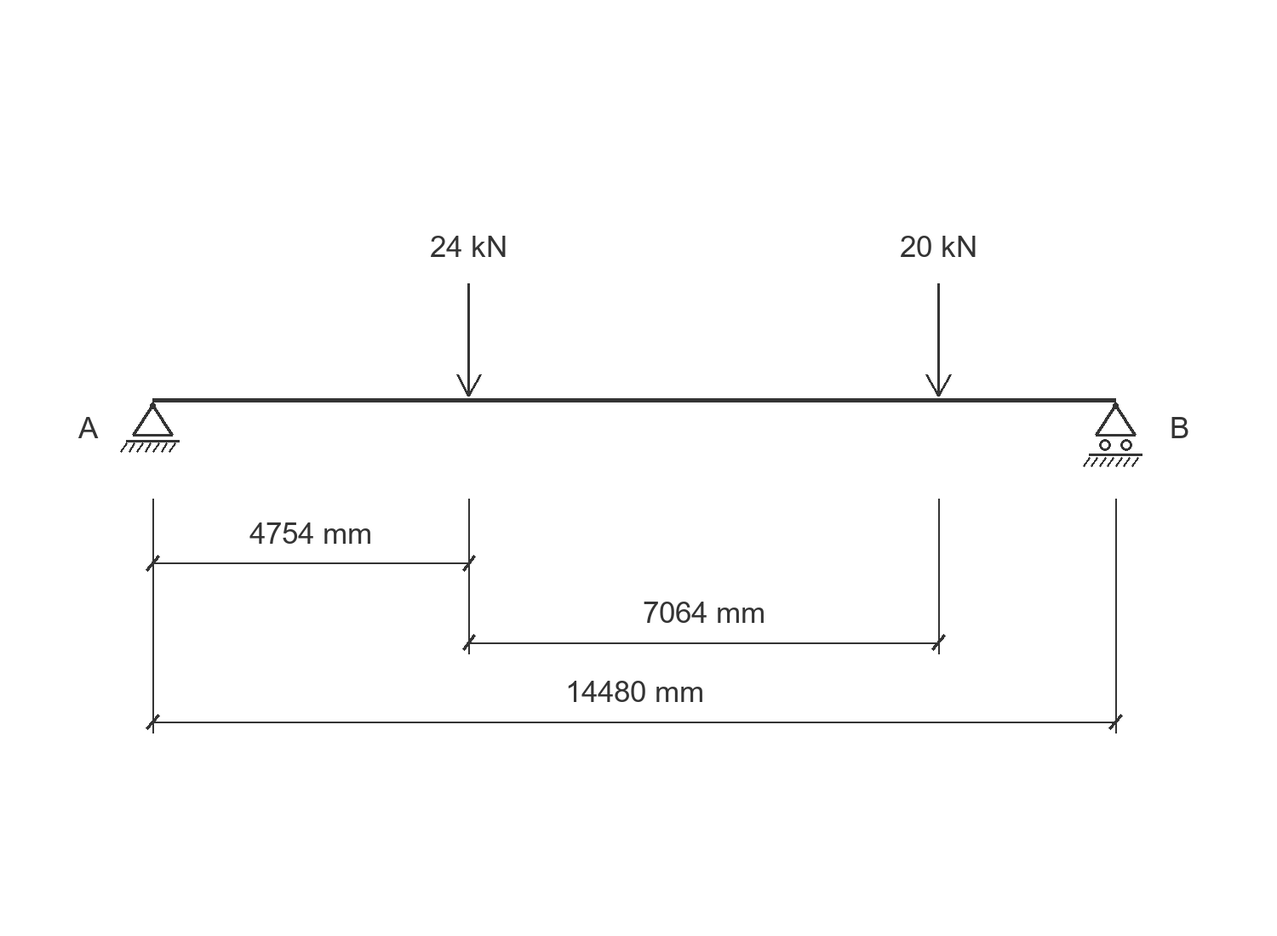pin_support: (120, 402, 180, 453)
point_load: (925, 283, 952, 397), (456, 283, 482, 397)
roller_support: (1083, 402, 1142, 467)
